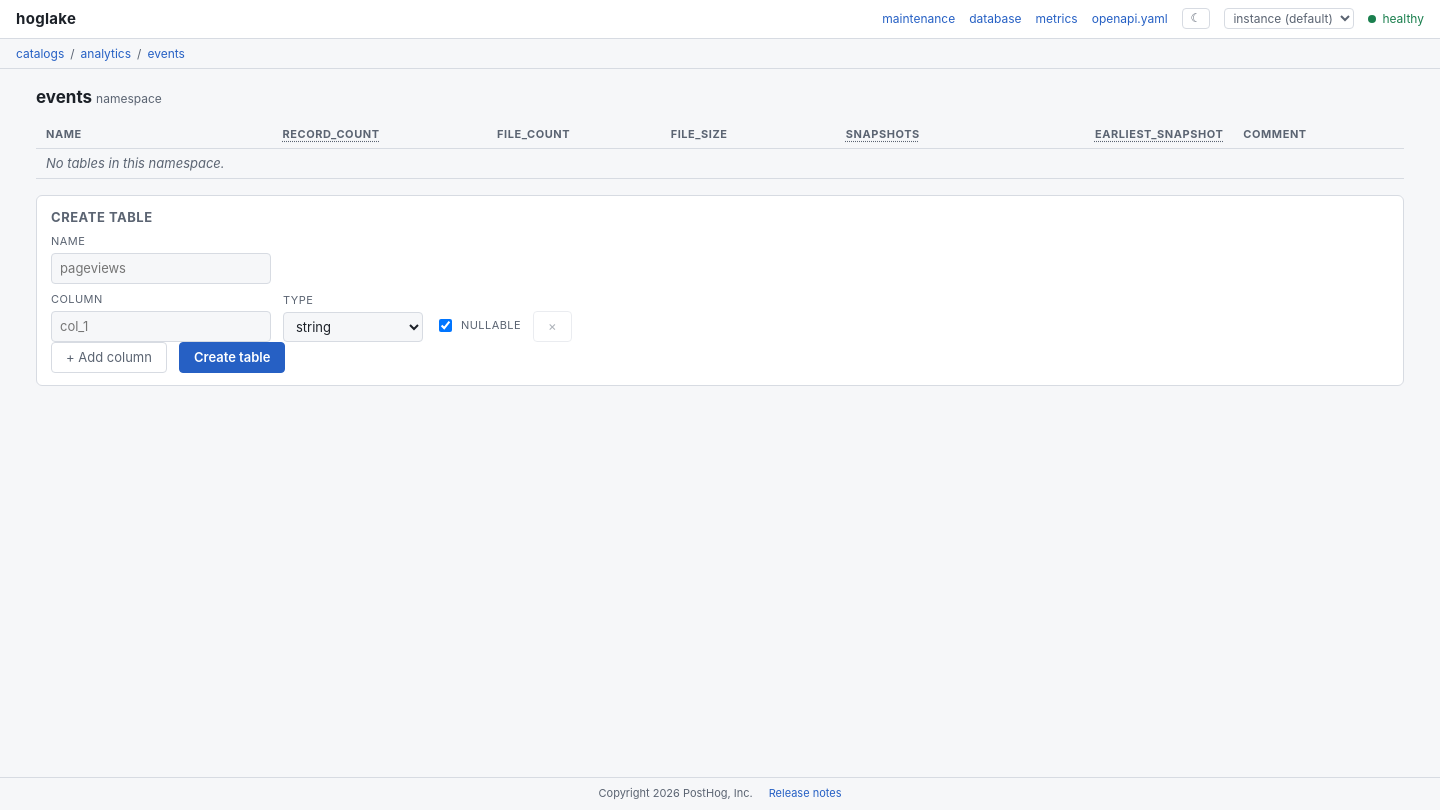
Scenario: NamespacePage › shows a 422 validation error from create-table inline
expect the text "No tables in this namespace." is shown: met, box [36,148,1404,178]
Type "bad" into the field labelled "name".
click(161, 269); type("bad")  # box [51,253,271,284]
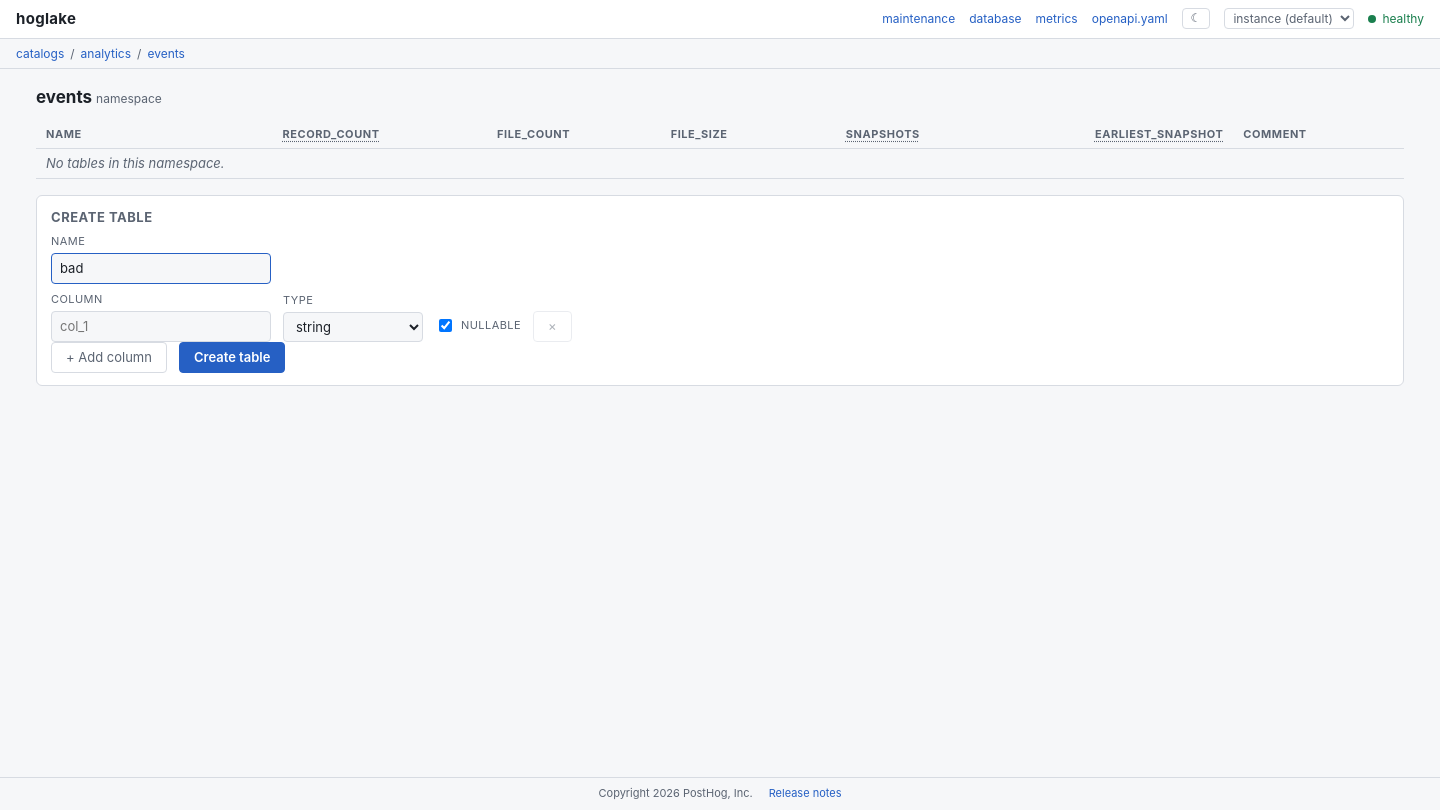
Type "x" into the field named "column 1 name".
click(161, 326); type("x")  # box [51,311,271,342]
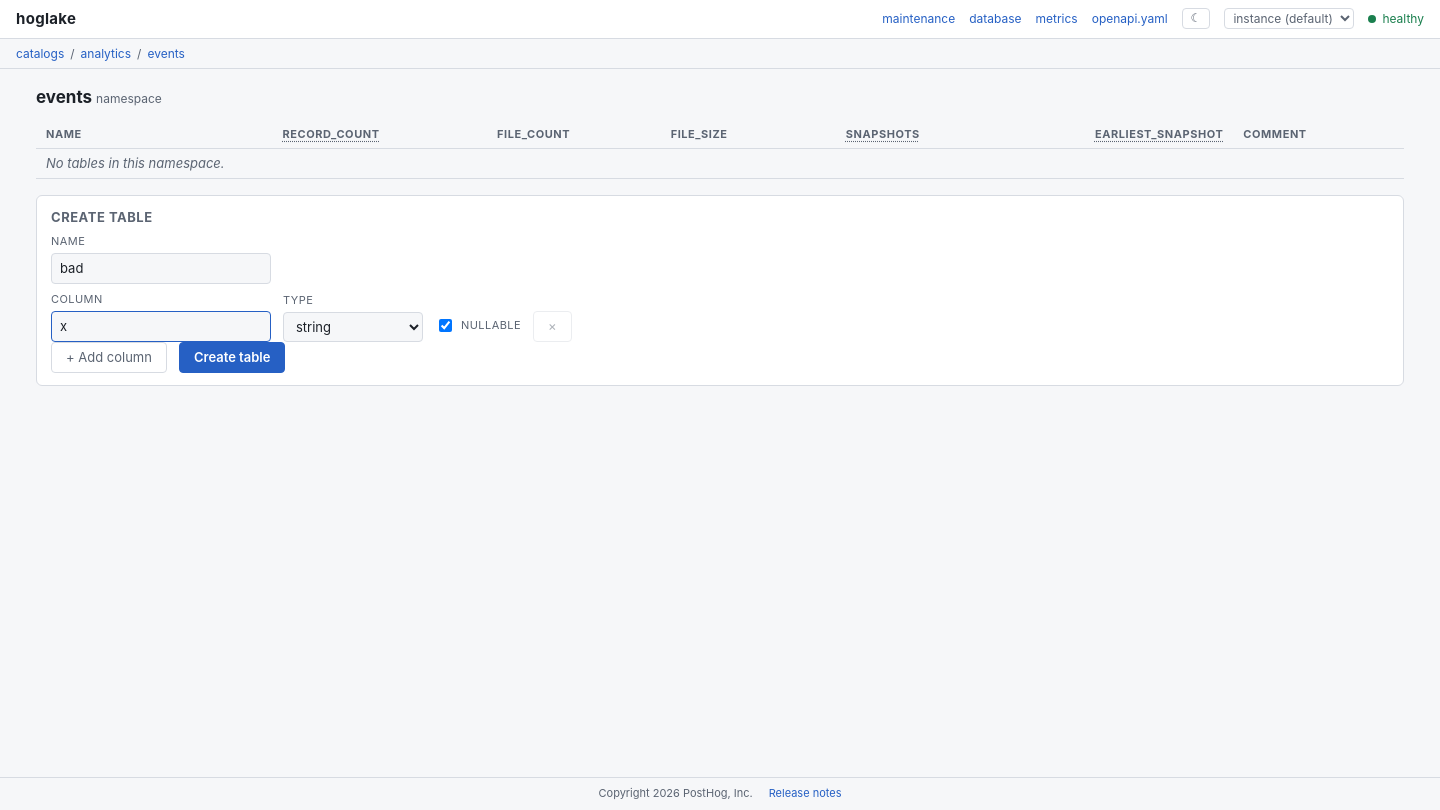
Click the button "Create table".
click(232, 357)  # box [179,342,285,373]
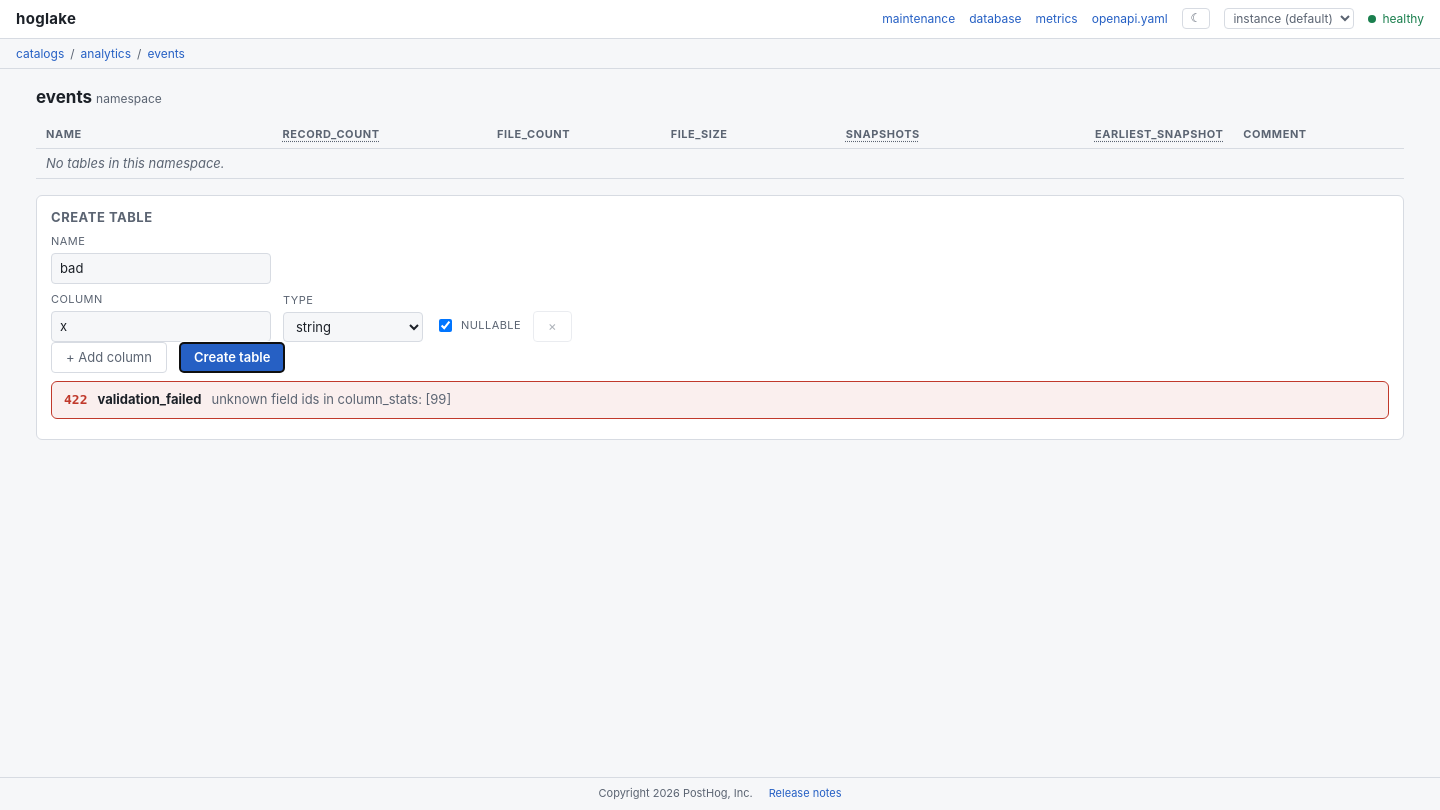
expect the message shows "validation_failed": met, box [98,391,202,407]
expect the message shows "unknown field ids in column_stats: [99]": met, box [212,391,451,407]
